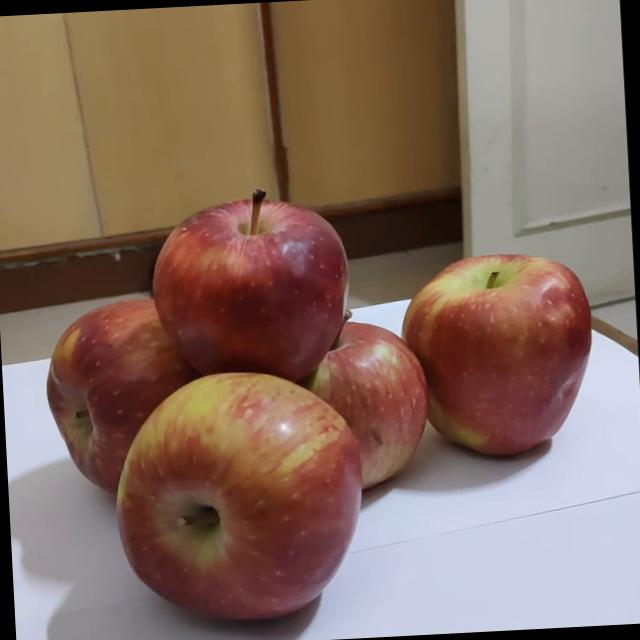apple: (123, 361, 399, 618), (392, 235, 622, 456), (158, 164, 374, 387), (51, 278, 254, 492), (283, 296, 451, 494)
